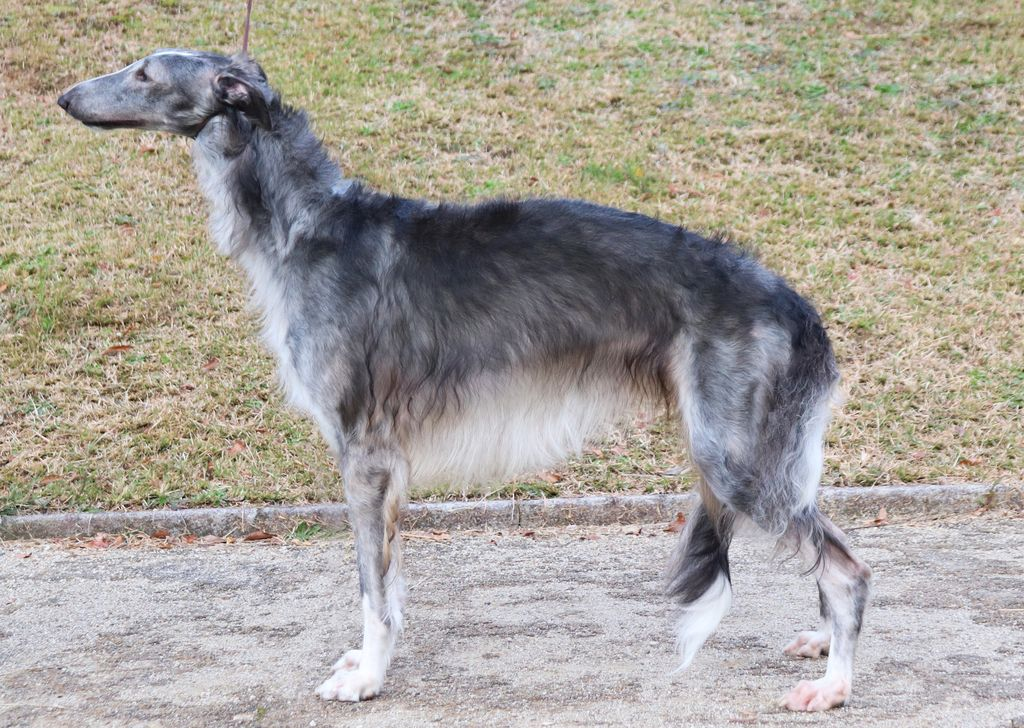borzoi: (3, 39, 897, 716)
